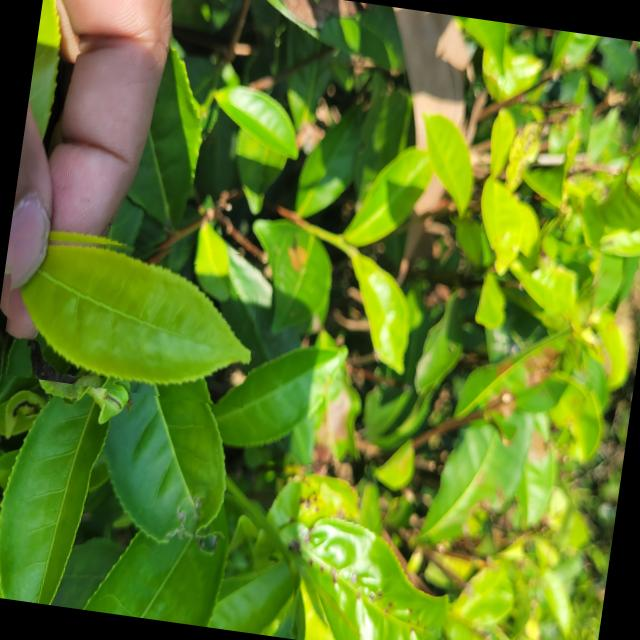Catagory A(1-2 days): (0, 221, 263, 408)
